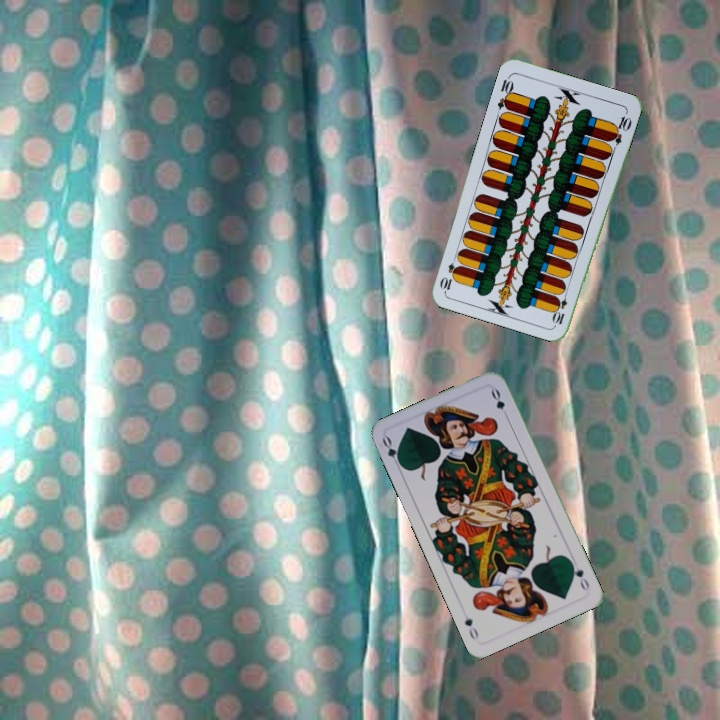E10: (493, 72, 516, 112), (550, 286, 570, 327)
GO: (378, 432, 405, 472), (566, 557, 592, 593)
